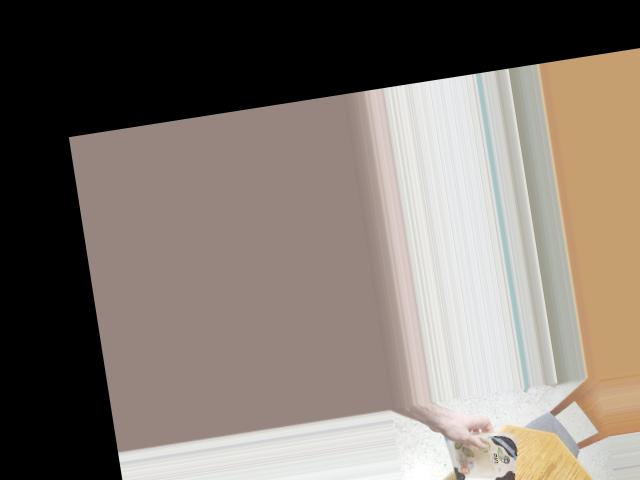cheese: (432, 422, 524, 480)
